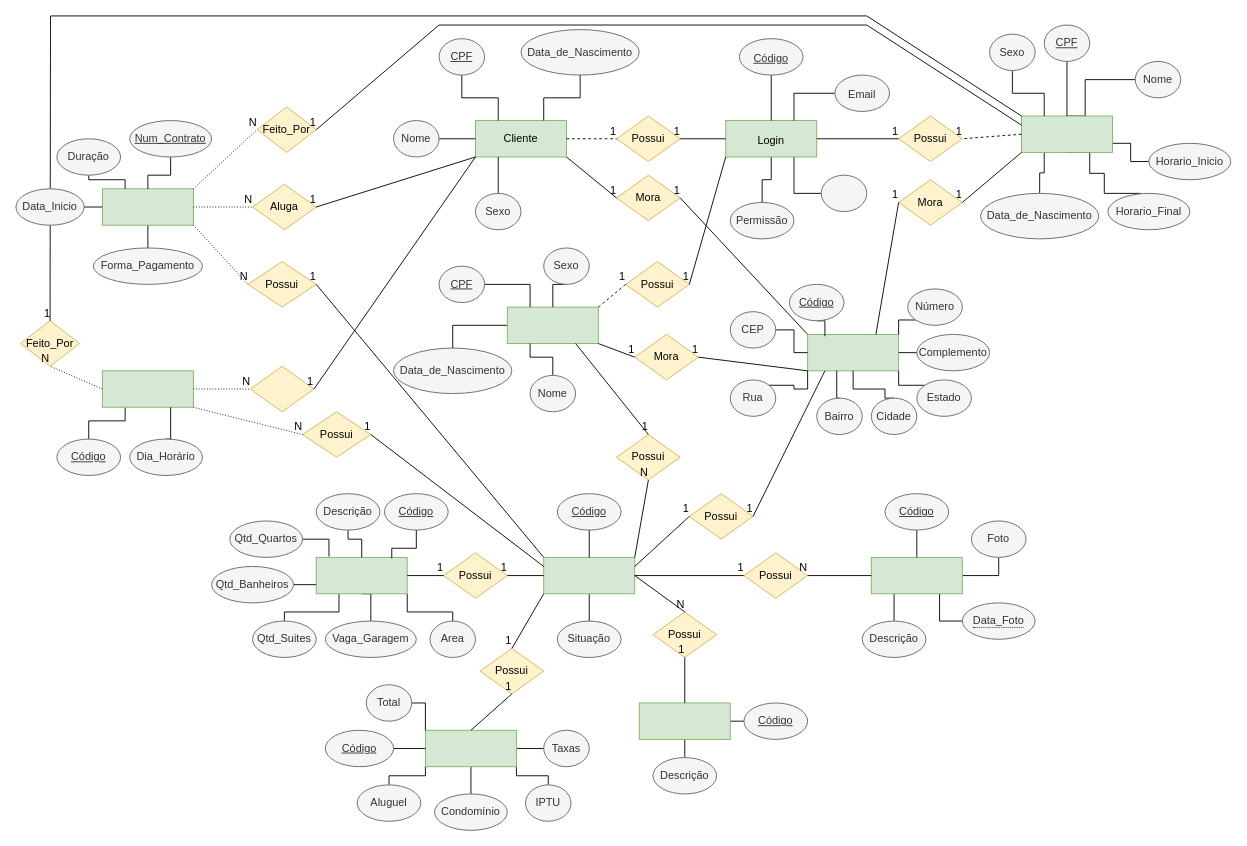
Image size: 1247x846. Some labels were removed from this diagram. The box of each missing label's shape, as (x1, y1, x2, y2) in pixels:
Agenda: (249, 365, 314, 412)
Características: (315, 556, 407, 594)
Categoria: (638, 702, 730, 739)
Contrato: (101, 188, 193, 225)
Corretor: (1021, 115, 1112, 152)
Endereço: (807, 334, 899, 371)
Fotos: (870, 556, 962, 594)
Imóvel: (543, 556, 635, 594)
Precos: (425, 729, 516, 767)
Proprietário: (506, 306, 598, 344)
Senha: (820, 174, 867, 212)
Visita: (101, 370, 193, 407)
